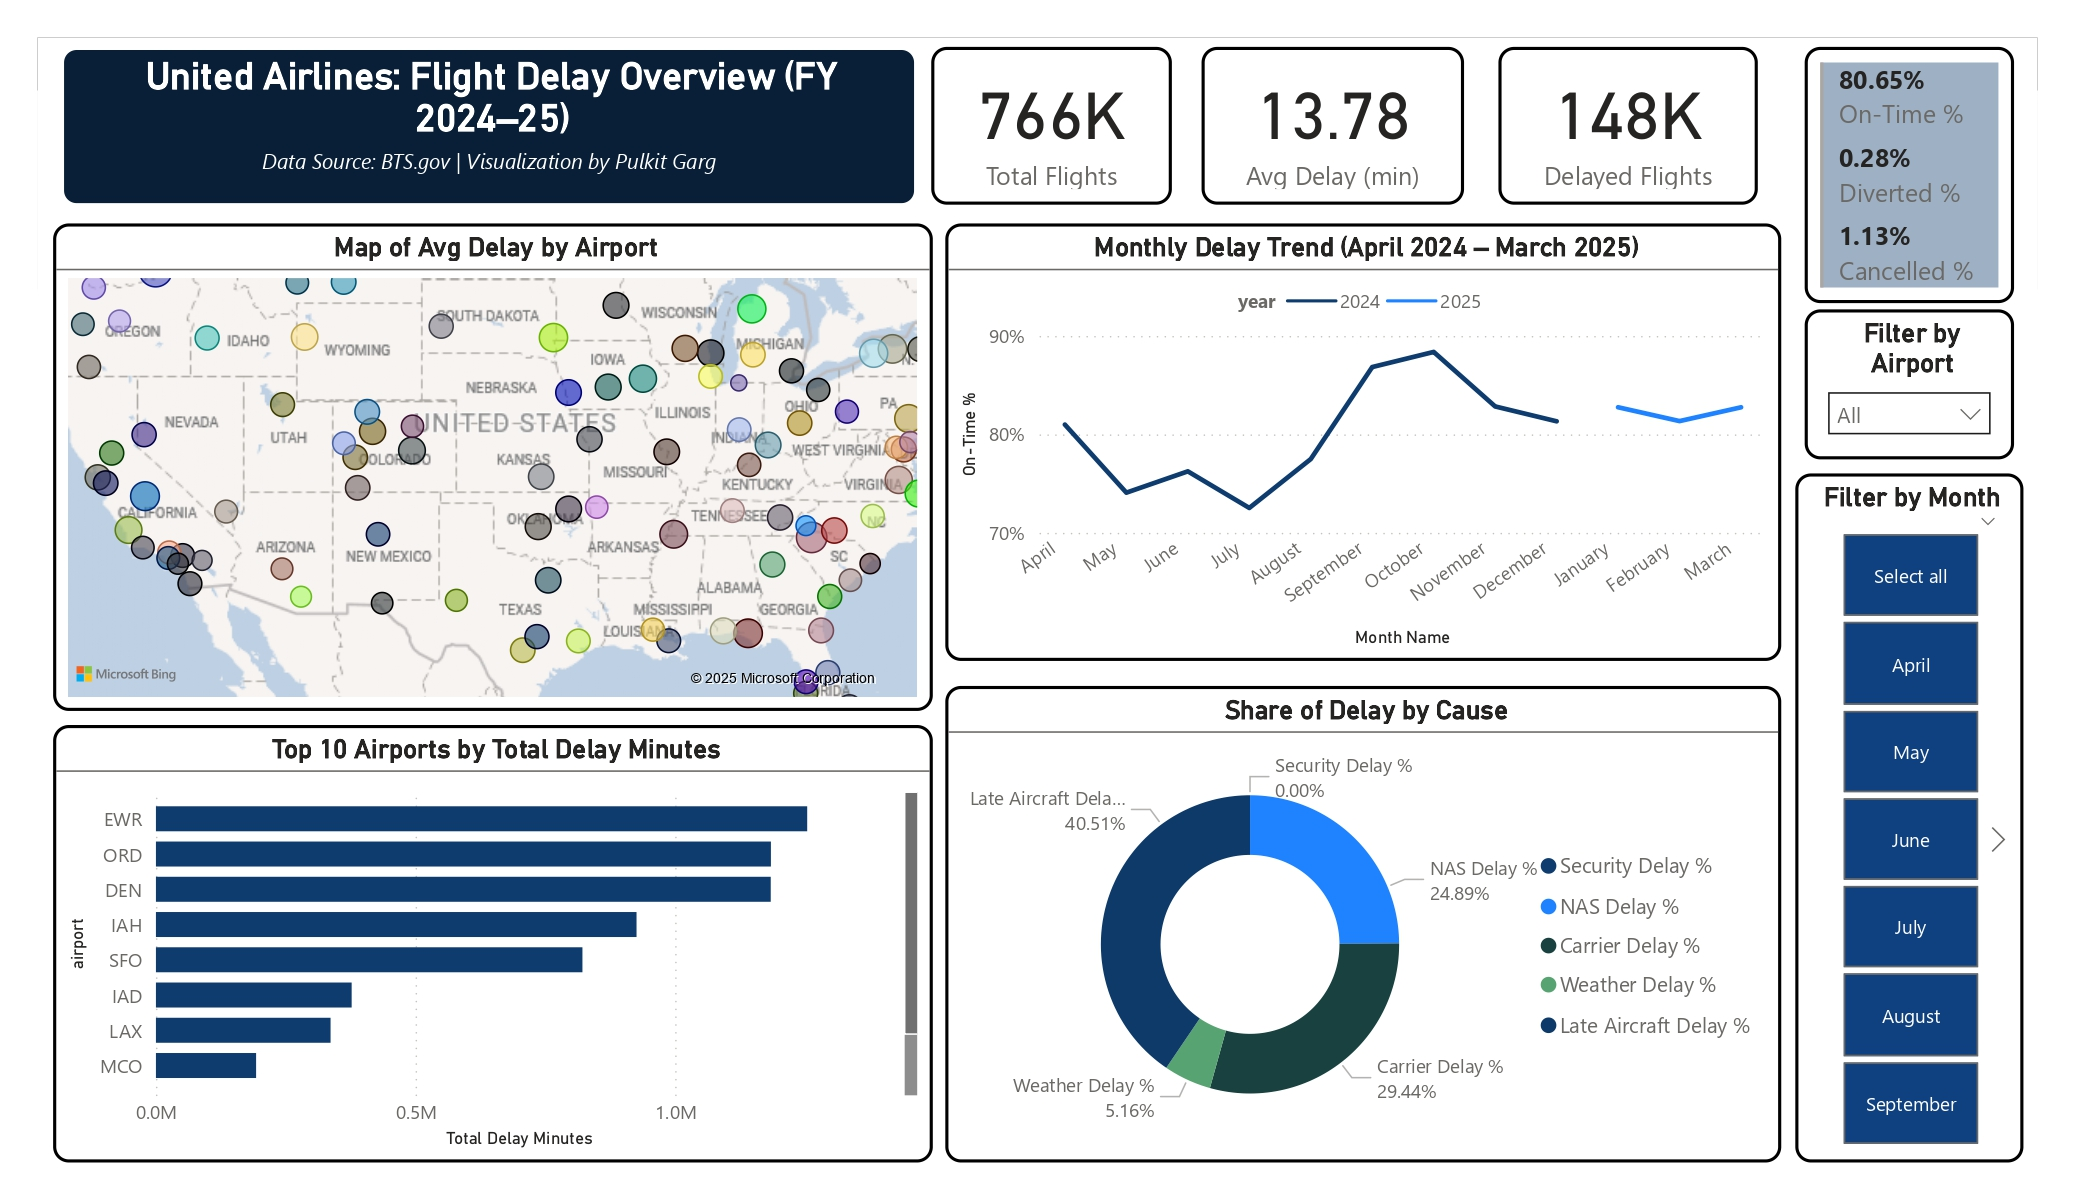

The page's visual inventory and layout, read from the dashboard file:
{"tool":"powerbi","page":{"name":"Executive Summary - Dashboard","canvas":[1280,720],"ordinal":0},"visuals":[{"type":"card","fields":{"Values":["Airline_Delay_Cause.Total Flights"]},"box":[572.2,6.2,154.3,100.8],"z":0},{"type":"multiRowCard","fields":{"Values":["Airline_Delay_Cause.On-Time %","Airline_Delay_Cause.Diverted %","Airline_Delay_Cause.Cancelled %"]},"box":[1130.8,6.2,134.3,164.2],"z":1000},{"type":"donutChart","title":"\tShare of Delay by Cause","fields":{"Y":["Airline_Delay_Cause.Security Delay %","Airline_Delay_Cause.NAS Delay %","Airline_Delay_Cause.Carrier Delay %","Airline_Delay_Cause.Weather Delay %","Airline_Delay_Cause.Late Aircraft Delay %"]},"box":[581.2,415,535,305],"z":2000},{"type":"lineChart","title":"Monthly Delay Trend (April 2024 – March 2025)","fields":{"Y":["Airline_Delay_Cause.On-Time %"],"Category":["Airline_Delay_Cause.Month Name"],"Series":["Airline_Delay_Cause.year"]},"box":[581.2,118.8,535,280],"z":3000},{"type":"card","fields":{"Values":["Airline_Delay_Cause.Avg Delay (min)"]},"box":[745.1,6.2,167.9,100.8],"z":4000},{"type":"barChart","title":"Top 10 Airports by Total Delay Minutes","fields":{"Category":["Airline_Delay_Cause.airport"],"Y":["Airline_Delay_Cause.Total Delay Minutes"]},"box":[10,440,562.5,280],"z":5000},{"type":"slicer","title":"Filter by Month","fields":{"Values":["Airline_Delay_Cause.Month Name"]},"box":[1124.5,278.6,146.8,441.6],"z":6000},{"type":"slicer","title":"Filter by Airport","fields":{"Values":["Airline_Delay_Cause.airport_name"]},"box":[1130.8,174.2,134.3,95.8],"z":7000},{"type":"card","fields":{"Values":["Airline_Delay_Cause.Delayed Flights"]},"box":[935.5,6.2,165.4,100.8],"z":8000},{"type":"textbox","title":"United Airlines: Flight Delay Overview (FY 2024–25)","box":[15,6.2,547.5,101.2],"z":9000},{"type":"map","title":"Map of Avg Delay by Airport","fields":{"Y":["airports.Latitude "],"X":["airports.Longitude"],"Series":["Airline_Delay_Cause.airport"],"Size":["Airline_Delay_Cause.Avg Delay (min)"]},"box":[10,118.8,562.5,312.5],"z":10000}]}

Visuals, with their boxes on the page's 1280x720 design canvas (x1, y1, x2, y2). These are canvas units, not pixel positions in the 2075x1200 screenshot, which may show the page scaled, cropped or inside an application window:
card - Airline_Delay_Cause.Total Flights: detection(572, 6, 726, 107)
multiRowCard - Airline_Delay_Cause.On-Time % x Airline_Delay_Cause.Diverted %: detection(1131, 6, 1265, 170)
"	Share of Delay by Cause" donutChart: detection(581, 415, 1116, 720)
"Monthly Delay Trend (April 2024 – March 2025)" lineChart: detection(581, 119, 1116, 399)
card - Airline_Delay_Cause.Avg Delay (min): detection(745, 6, 913, 107)
"Top 10 Airports by Total Delay Minutes" barChart: detection(10, 440, 572, 720)
"Filter by Month" slicer: detection(1124, 279, 1271, 720)
"Filter by Airport" slicer: detection(1131, 174, 1265, 270)
card - Airline_Delay_Cause.Delayed Flights: detection(936, 6, 1101, 107)
"United Airlines: Flight Delay Overview (FY 2024–25)" textbox: detection(15, 6, 562, 107)
"Map of Avg Delay by Airport" map: detection(10, 119, 572, 431)
